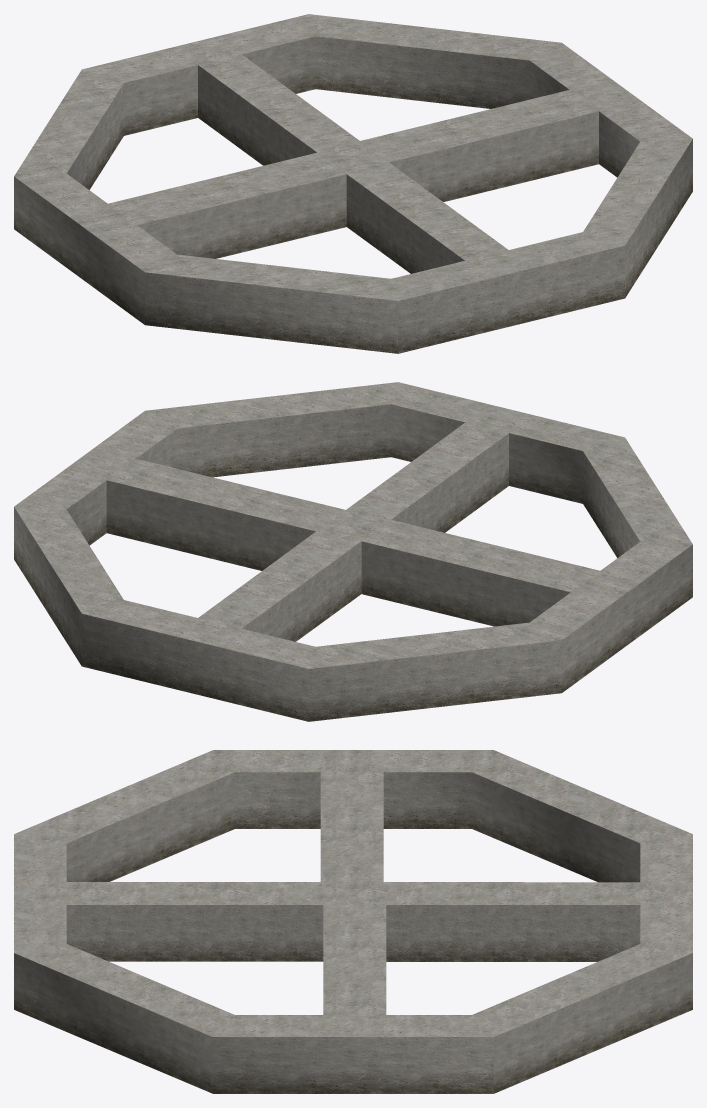
The model's file is WP_TOP_X.fbx.
3 views of the same model, one above another, from view 1: azimuth 30°, elevation 25°; view 2: azimuth 150°, elevation 25°; view 3: azimuth 270°, elevation 25° (orthographic). The views are drawn at different scales.
Visible parts, largest first — view 1: WP_TOP_X; view 2: WP_TOP_X; view 3: WP_TOP_X.
Boxes of the visible parts, x1,y1,x2,y2 form: WP_TOP_X: (14,14,692,353); WP_TOP_X: (14,382,692,721); WP_TOP_X: (14,750,692,1093).
Bounding box in the file's own units: 10848 × 1000 × 10847.
Materials: 2 (2 with a texture image).
